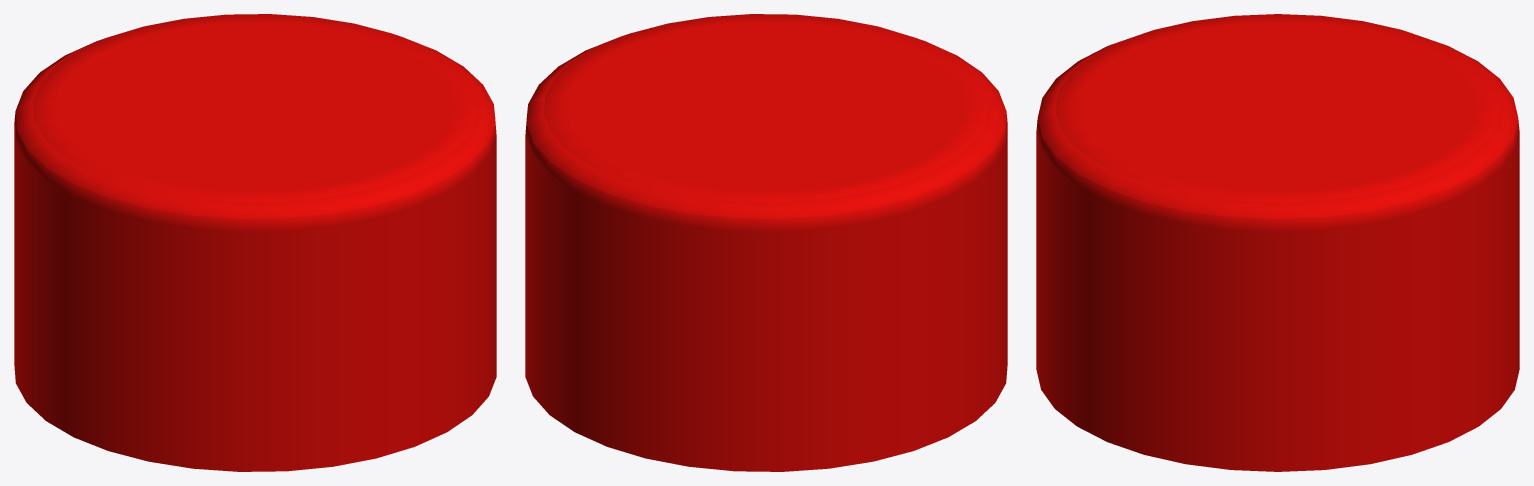
File: Button.fbx
3 renders of one model, left to right at view 1: azimuth 30°, elevation 25°; view 2: azimuth 150°, elevation 25°; view 3: azimuth 270°, elevation 25°, orthographic.
Parts seen in each view (by area): view 1: Cylinder.006; view 2: Cylinder.006; view 3: Cylinder.006.
Boxes of the visible parts, x1,y1,x2,y2 form: Cylinder.006: [14, 14, 496, 471]; Cylinder.006: [525, 14, 1007, 471]; Cylinder.006: [1036, 14, 1519, 471].
Bounding box in the file's own units: 7.94 × 4.76 × 7.94.
